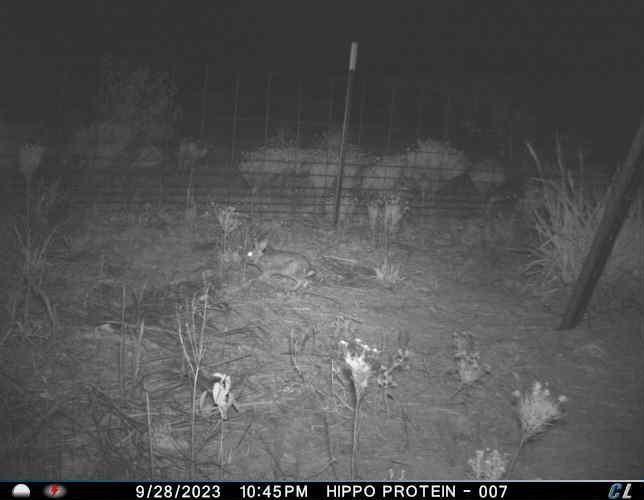Rabbit: (245, 232, 318, 292)
